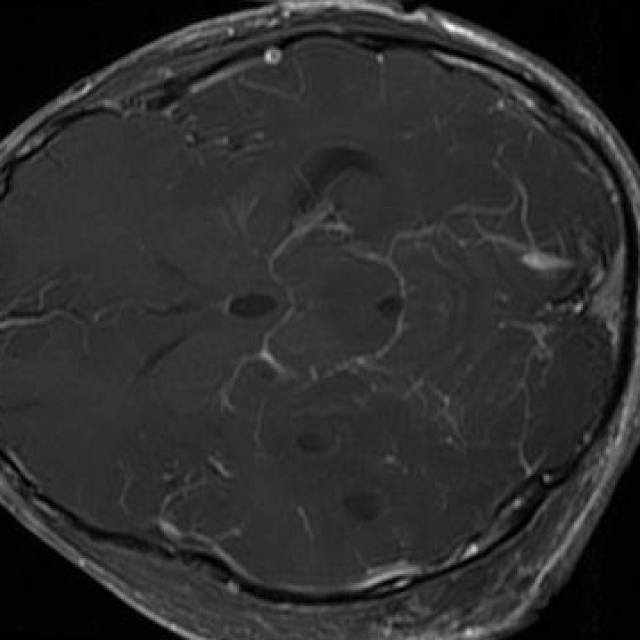glioma: (267, 402, 417, 550)
